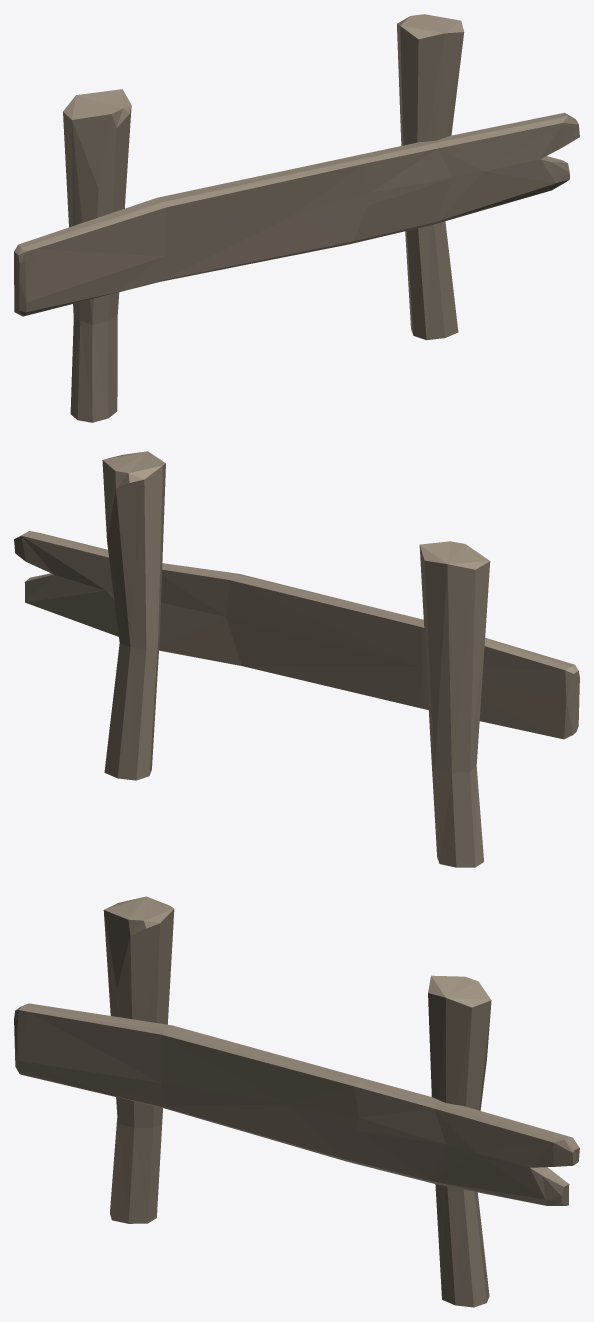
File: fence_wood_03a.glb
3 views of the same model, one above another, from view 1: azimuth 30°, elevation 25°; view 2: azimuth 150°, elevation 25°; view 3: azimuth 330°, elevation 25° (orthographic).
Visible parts, largest first — view 1: estructura.cerca.env_fence_wood_03a; view 2: estructura.cerca.env_fence_wood_03a; view 3: estructura.cerca.env_fence_wood_03a.
Boxes of the visible parts, box(x1,y1,x2,y2) form: estructura.cerca.env_fence_wood_03a: box(14, 14, 579, 422); estructura.cerca.env_fence_wood_03a: box(14, 451, 579, 867); estructura.cerca.env_fence_wood_03a: box(14, 896, 579, 1307).
Size of the model in its own units: 3.15 by 1.7 by 0.3978.
